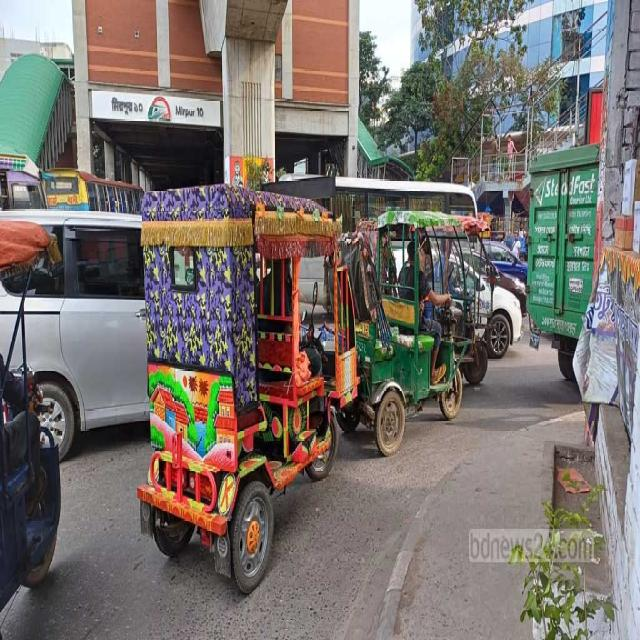Auto-Rickshaw: (346, 212, 476, 452)
Easybike: (141, 188, 367, 593)
